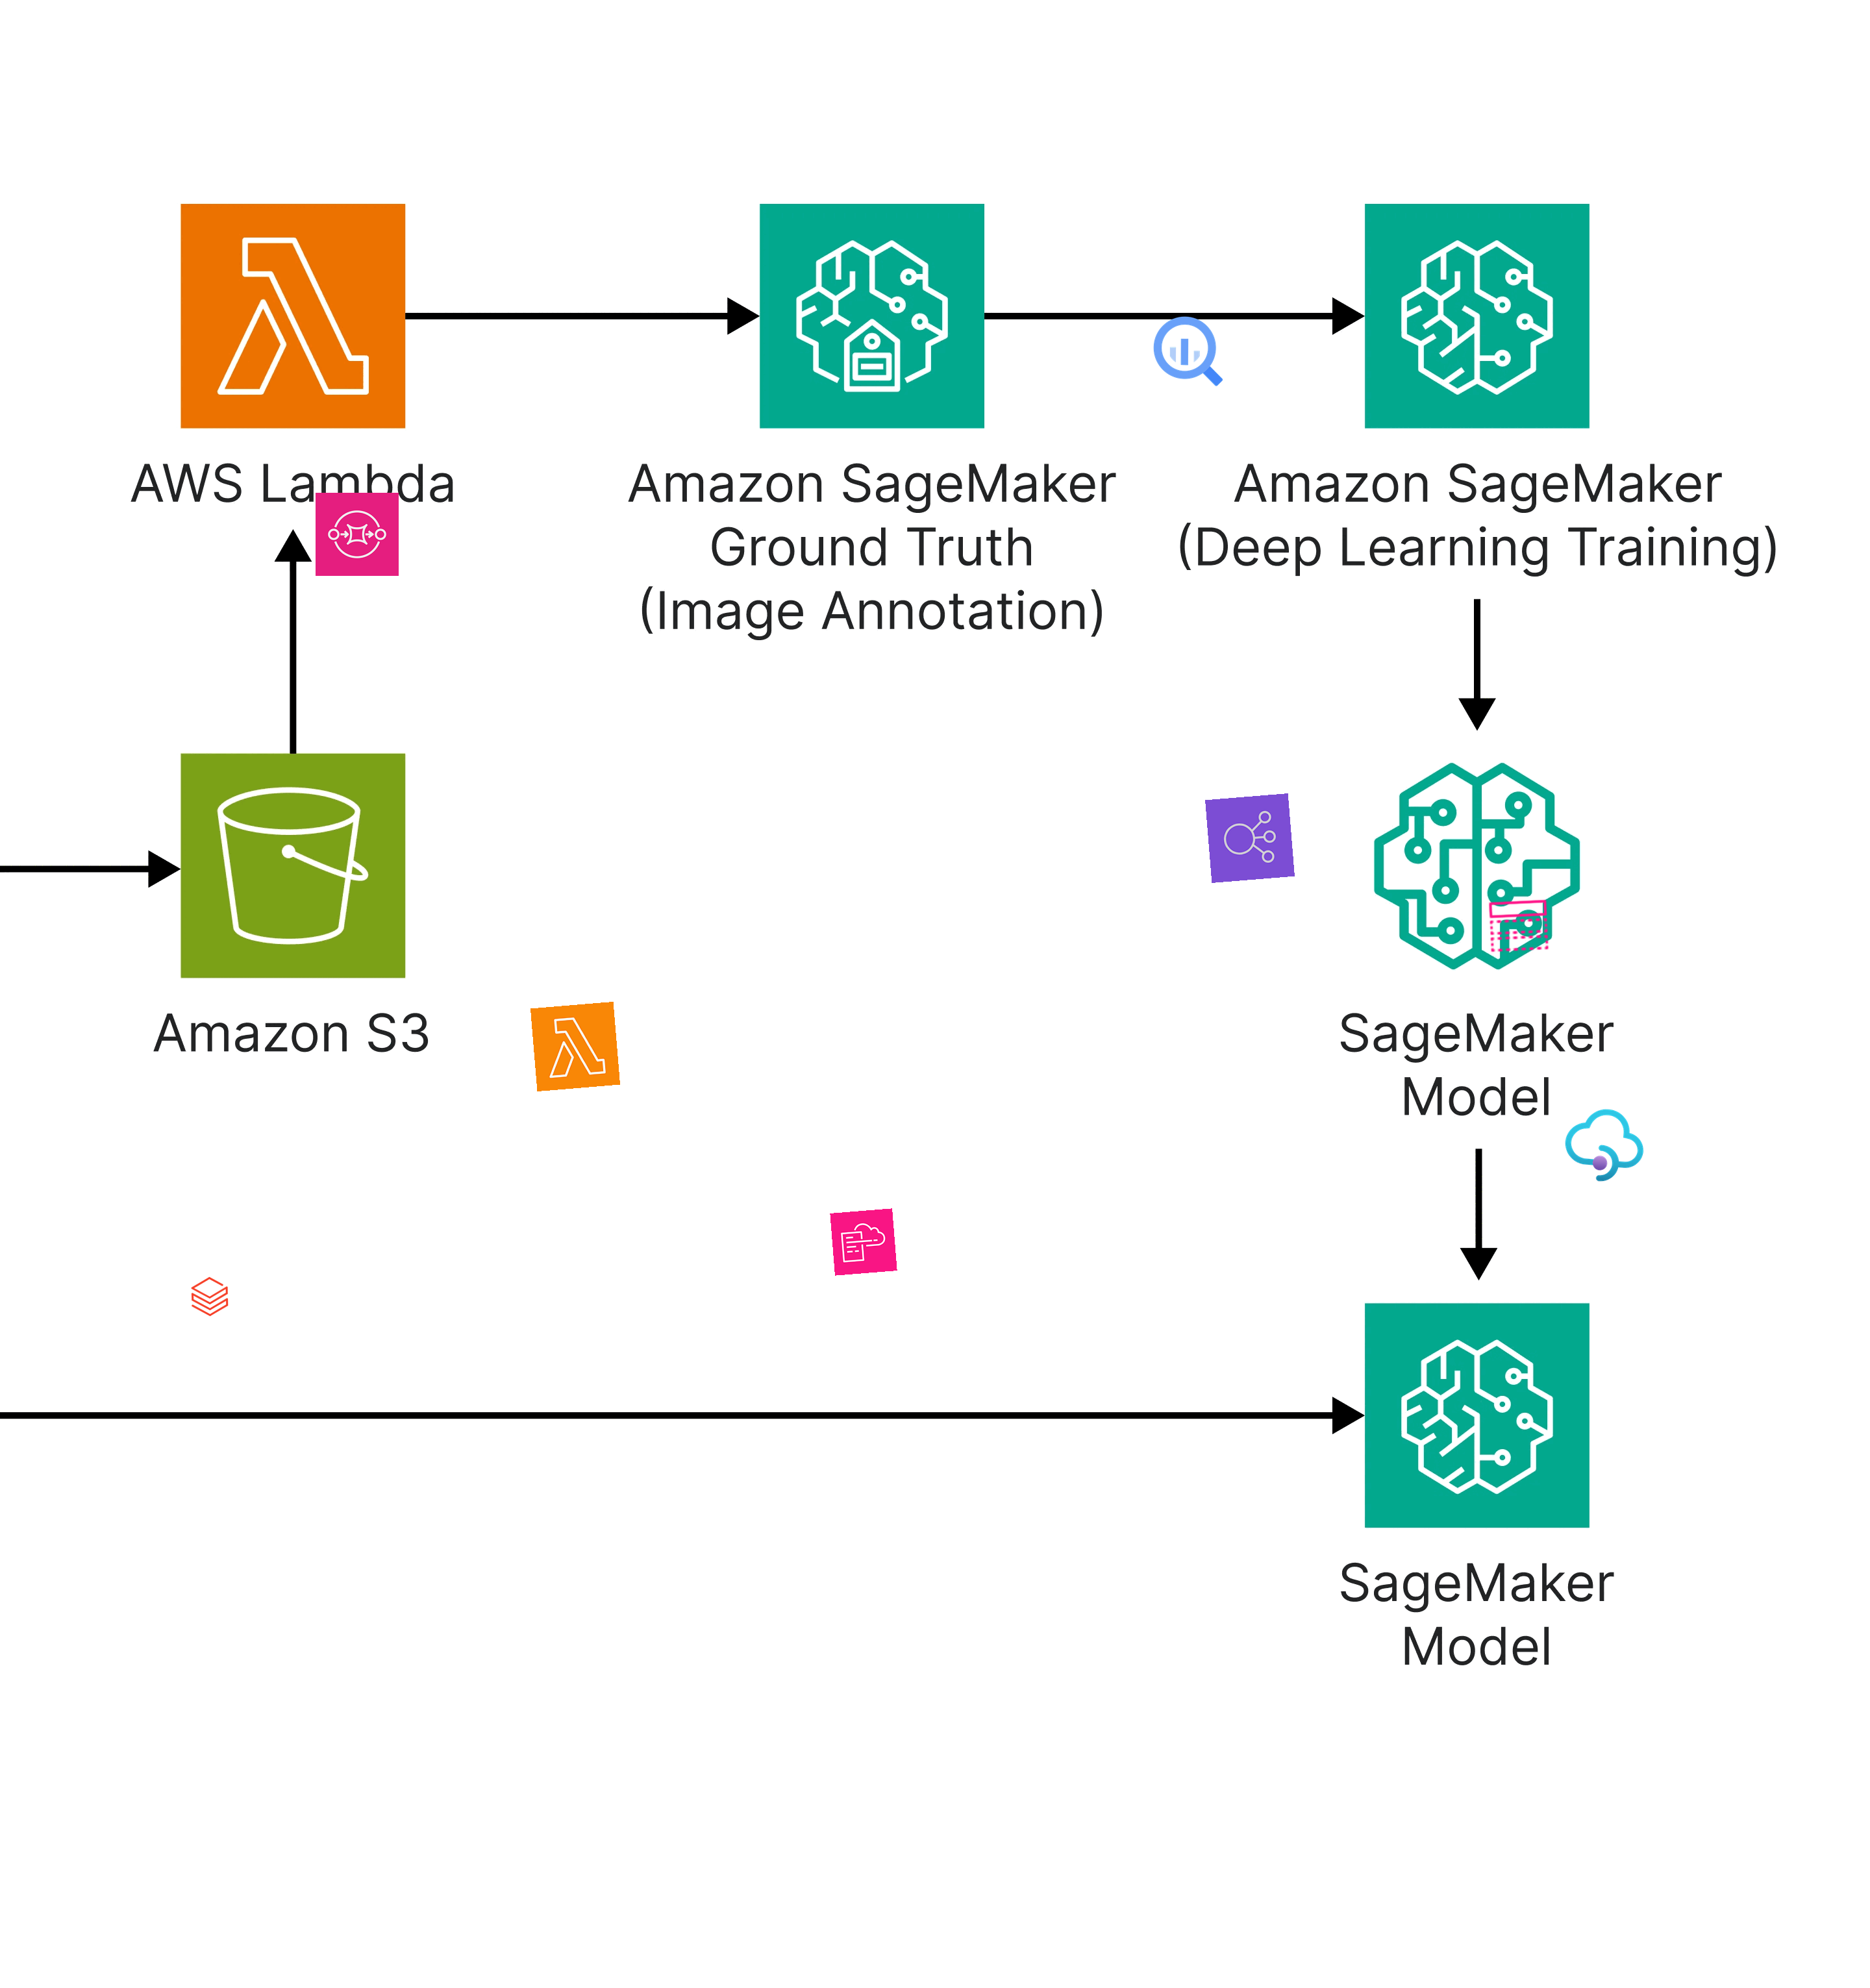aws_amazon_simple_queue_service: (315, 492, 399, 577)
aws_cloudformation: (830, 1208, 898, 1276)
aws_elastic_load_balancing: (1206, 793, 1295, 882)
aws_lambda: (529, 1002, 620, 1092)
aws_simple_notification_service_topic: (1485, 893, 1552, 960)
azure_api_management_services: (1559, 1100, 1650, 1190)
azure_databricks: (188, 1274, 232, 1318)
gcp_bigquery: (1146, 309, 1230, 394)
